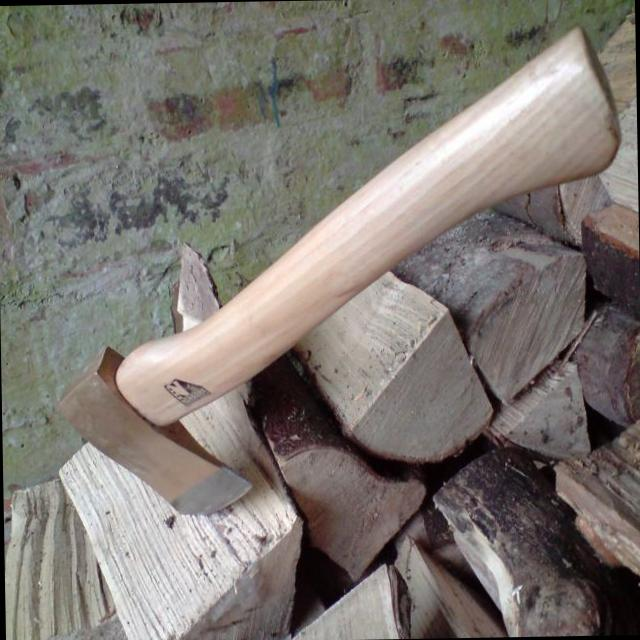Axe: (59, 28, 618, 514)
